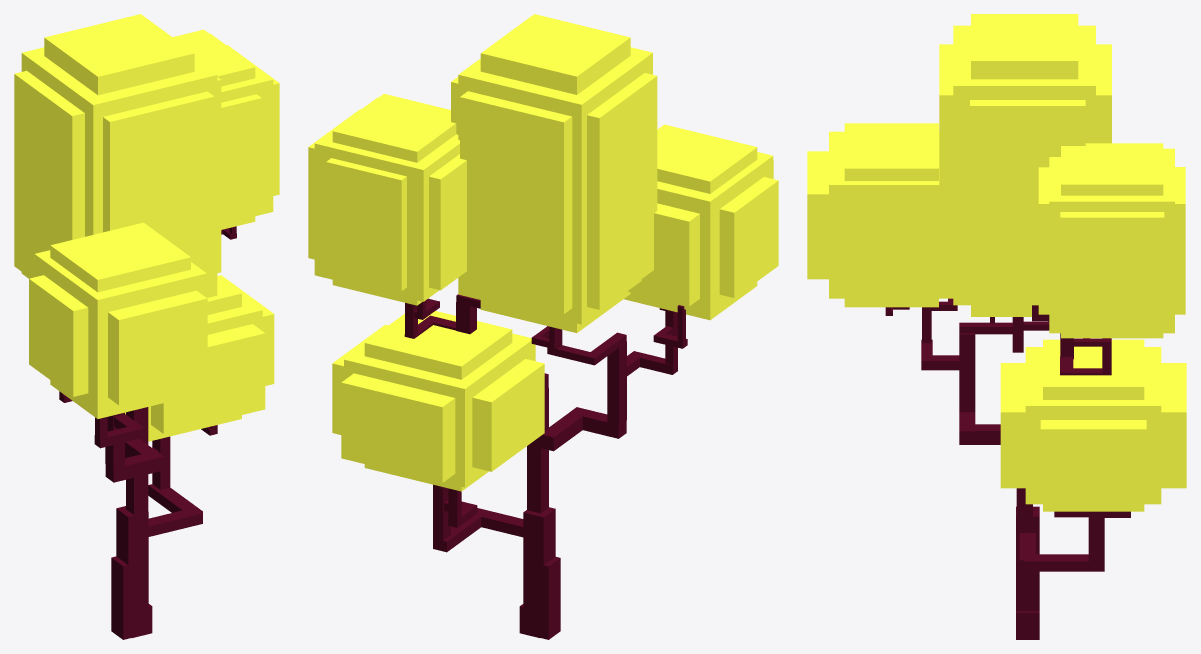
Rendered from TREE5.glb.
3 views of the same model, side by side, from view 1: azimuth 30°, elevation 25°; view 2: azimuth 150°, elevation 25°; view 3: azimuth 270°, elevation 25° (orthographic).
Visible parts, largest first — view 1: Cube.080, Cube.079, Cube.074, Cube.039, Cube.078, Cube.075, Cube.076, Cube.037, Cube.043, Cube.083, Cube, Cube.040 (+14 smaller); view 2: Cube.080, Cube.079, Cube.075, Cube.083, Cube.078, Cube.039, Cube.040, Cube.045, Cube.077, Cube.081, Cube.041, Cube.043 (+13 smaller); view 3: Cube.079, Cube.037, Cube.082, Cube.039, Cube.045, Cube.041, Cube.078, Cube.040, Cube.075, Cube.076, Cube.081, Cube.077 (+12 smaller).
Boxes of the visible parts, bbox=[...] form: Cube.080: bbox=[103, 91, 214, 290]; Cube.079: bbox=[14, 70, 221, 277]; Cube.074: bbox=[34, 258, 207, 405]; Cube.039: bbox=[21, 47, 217, 297]; Cube.078: bbox=[44, 14, 194, 95]; Cube.075: bbox=[151, 324, 265, 433]; Cube.076: bbox=[50, 222, 190, 418]; Cube.037: bbox=[34, 250, 206, 414]; Cube.043: bbox=[29, 275, 88, 396]; Cube.083: bbox=[221, 94, 261, 219]; Cube: bbox=[116, 506, 148, 637]; Cube.040: bbox=[209, 33, 273, 224]; Cube.080: bbox=[460, 91, 572, 313]; Cube.079: bbox=[451, 73, 657, 309]; Cube.075: bbox=[341, 333, 535, 482]; Cube.083: bbox=[326, 158, 406, 291]; Cube.078: bbox=[480, 14, 630, 332]; Cube.039: bbox=[458, 47, 652, 324]; Cube.040: bbox=[314, 97, 459, 301]; Cube.045: bbox=[332, 324, 544, 471]; Cube.077: bbox=[364, 311, 512, 491]; Cube.081: bbox=[332, 94, 456, 305]; Cube.041: bbox=[344, 334, 532, 487]; Cube.043: bbox=[719, 177, 778, 297]; Cube.079: bbox=[970, 100, 1085, 297]; Cube.037: bbox=[829, 131, 953, 298]; Cube.082: bbox=[1060, 212, 1164, 328]; Cube.039: bbox=[953, 25, 1095, 305]; Cube.045: bbox=[1040, 420, 1146, 498]; Cube.041: bbox=[1025, 347, 1161, 504]; Cube.078: bbox=[971, 14, 1078, 316]; Cube.040: bbox=[1049, 148, 1174, 333]; Cube.075: bbox=[1000, 363, 1186, 488]; Cube.076: bbox=[844, 123, 938, 307]; Cube.081: bbox=[1061, 143, 1163, 338]; Cube.077: bbox=[1043, 339, 1144, 511].
Bounding box in the file's own units: 3.59 × 6.48 × 3.79.
